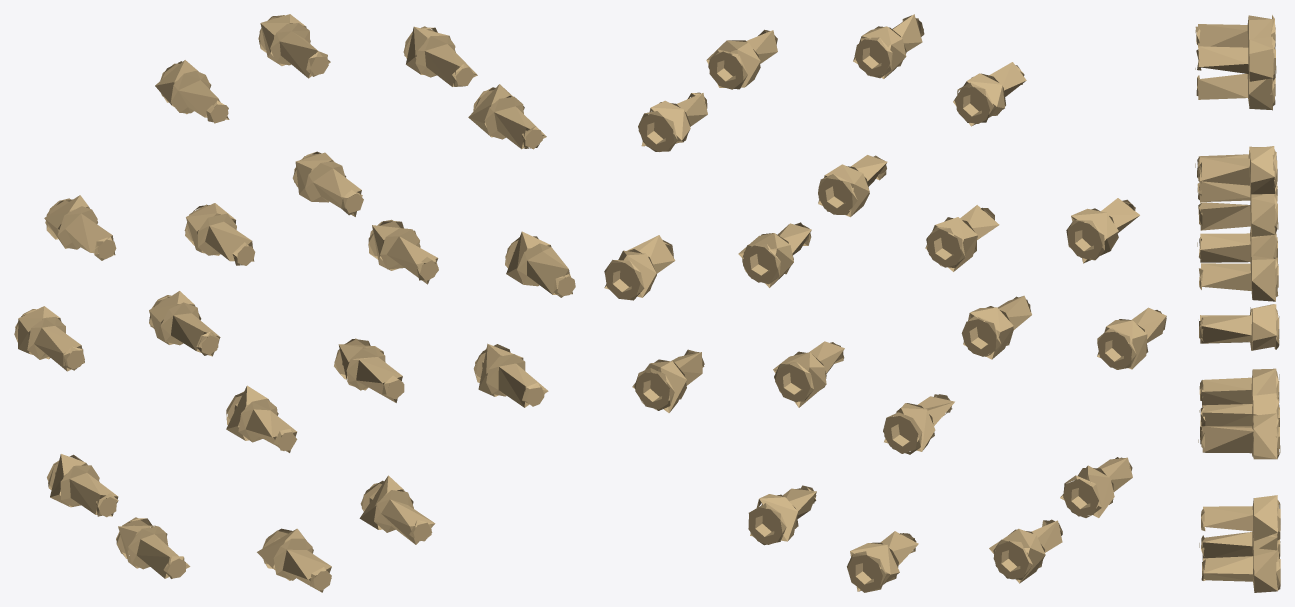
Rendered from front_left_wheel_133.dae.
3 views of the same model, side by side, from view 1: azimuth 30°, elevation 25°; view 2: azimuth 150°, elevation 25°; view 3: azimuth 270°, elevation 25° (orthographic). The views are drawn at different scales.
Visible parts, largest first — view 1: node; view 2: node; view 3: node.
Part boxes in pixels (<box>): node: <box>14,14,575,592</box>; node: <box>604,14,1166,592</box>; node: <box>1195,15,1280,592</box>.
Bounding box in the file's own units: 0.1724 × 0.0257 × 0.1734.
